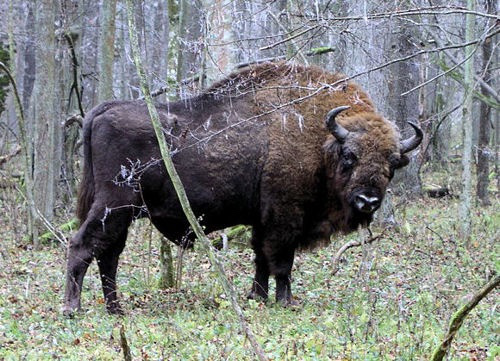zubr: (49, 58, 454, 330)
